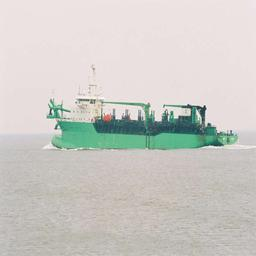Ship: (44, 77, 242, 157)
